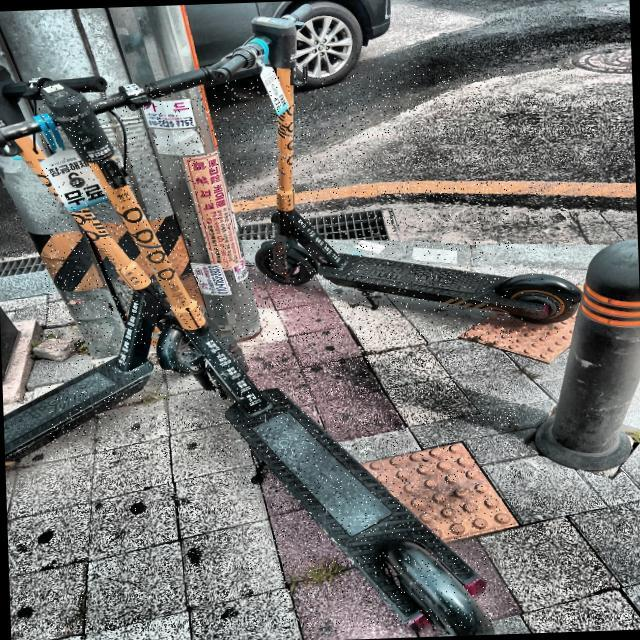bike: (0, 13, 511, 639), (1, 11, 582, 355)
car: (0, 0, 393, 93)
